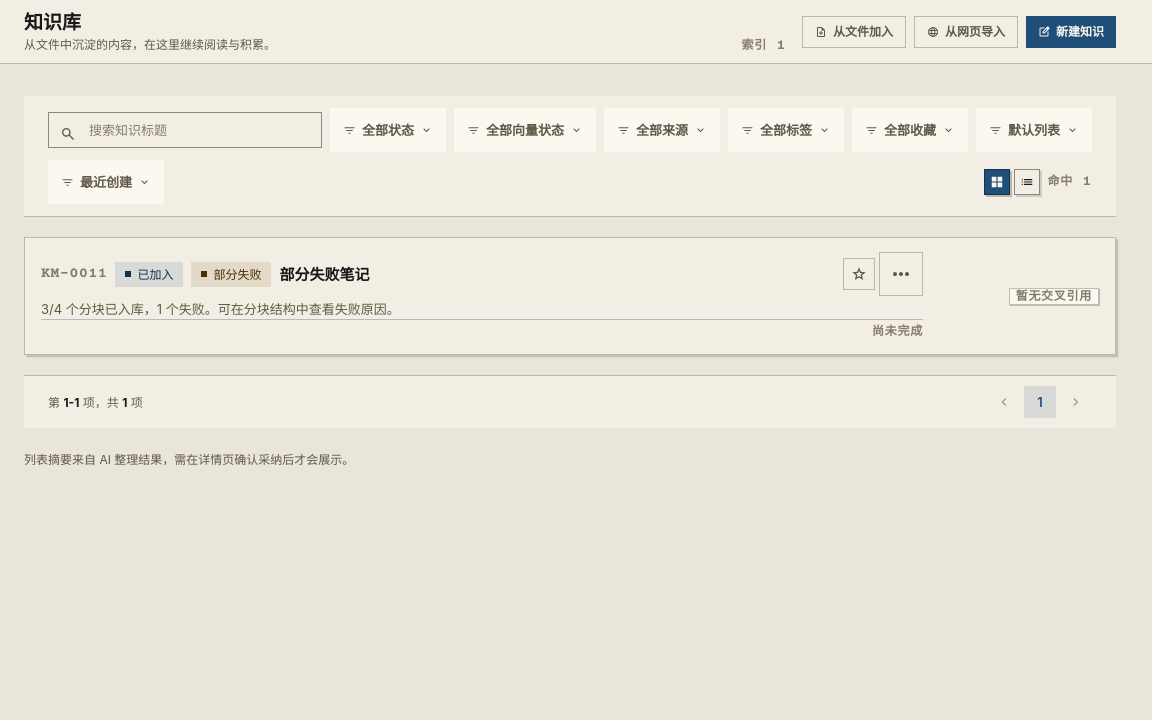
KnowledgeLibrary › retries vector chunks from the menu and refreshes the list
Click the button named "更多操作 部分失败笔记": x=901, y=274 [879,252,923,296]
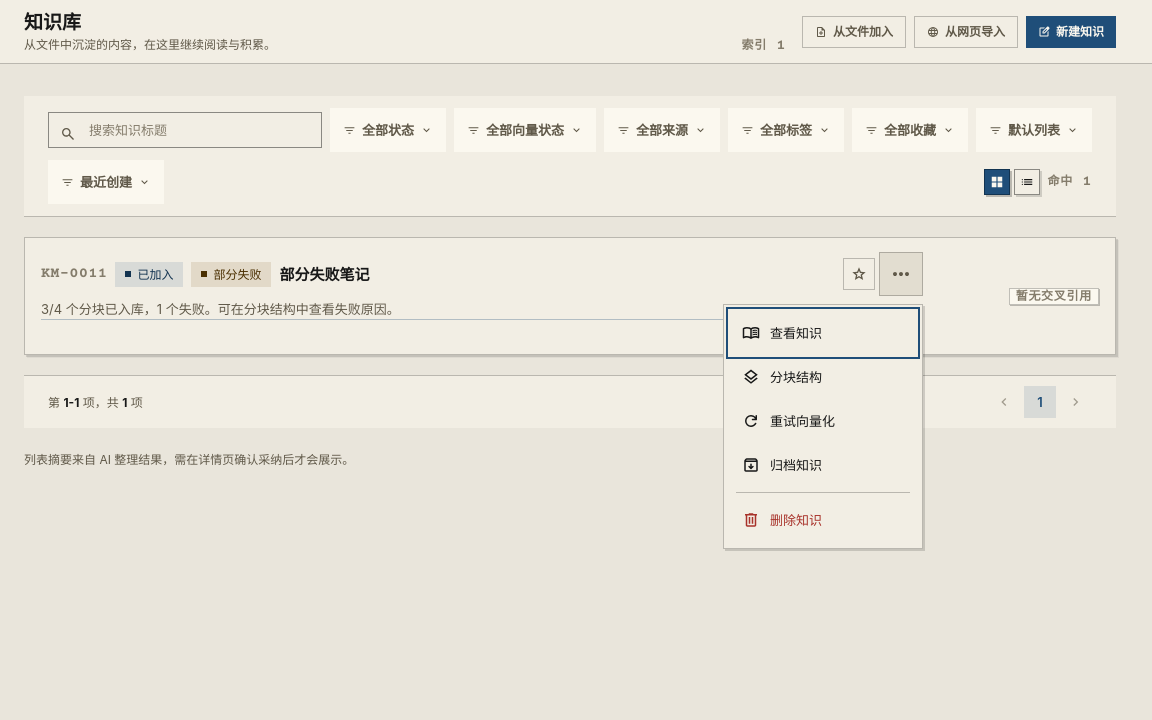
Click the menu item with aria-label "重试向量化 部分失败笔记": x=823, y=421 [730,399,916,443]
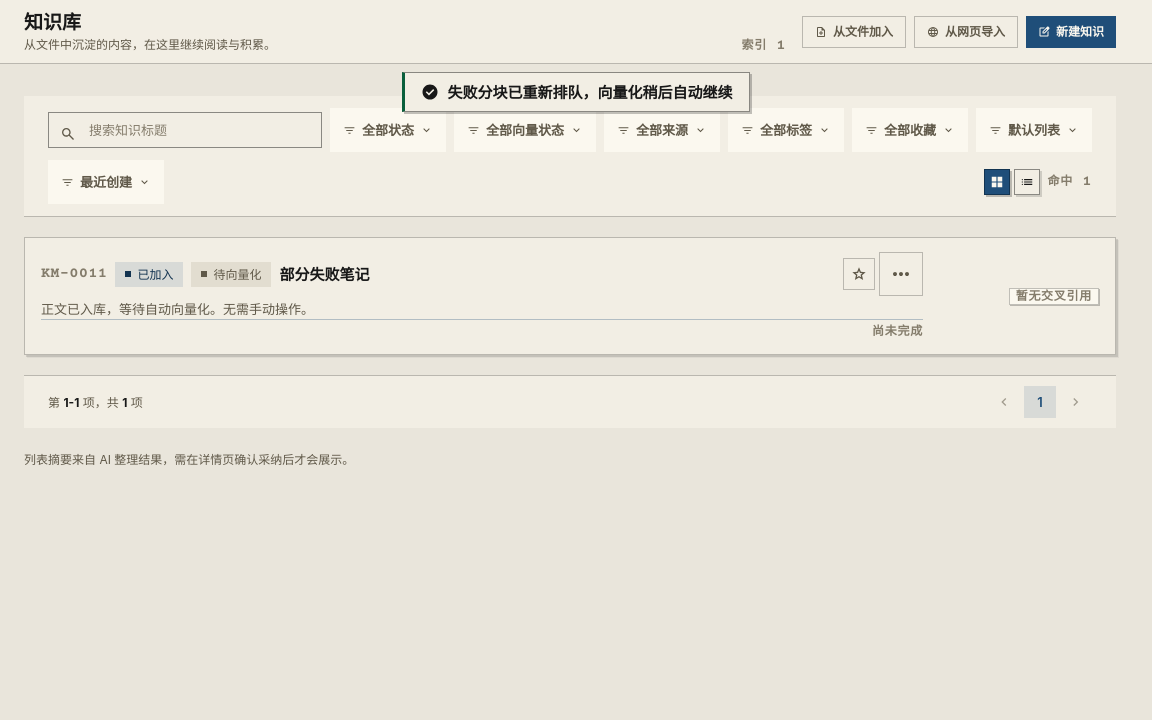
Expected: the text "失败分块已重新排队" is shown, [448,82,732,102]
